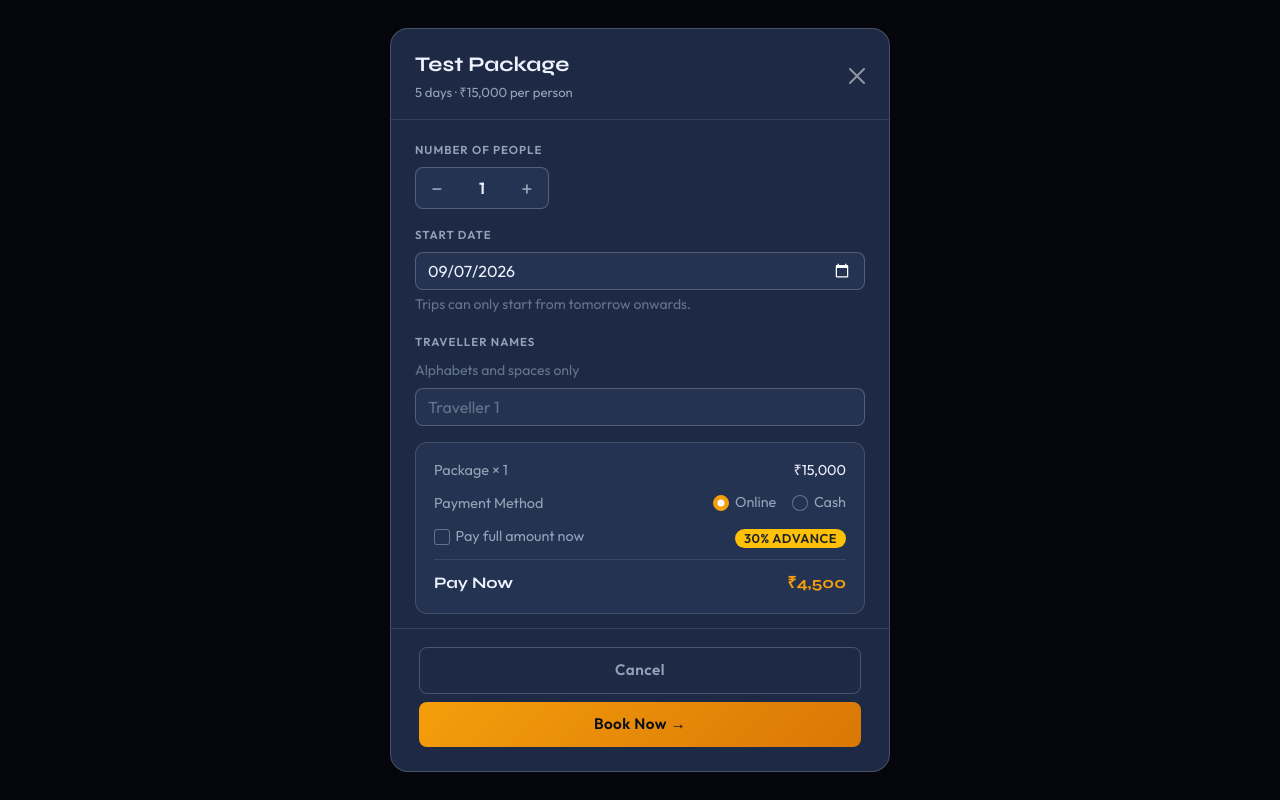
Test: BookingModal Component › shows duplicate names warning
Click the button "+" at x=527, y=188, box [506, 167, 548, 209]
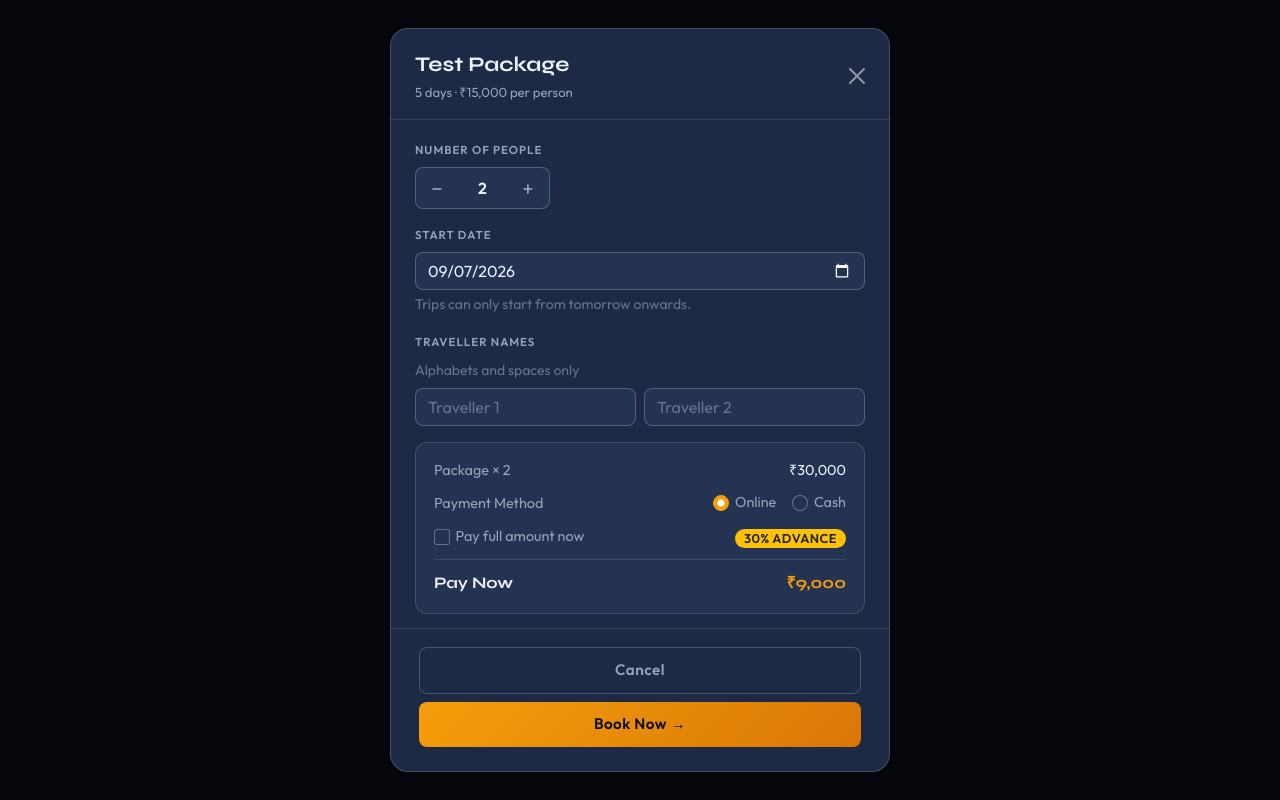
Type "Same Name" into the field with placeholder "Traveller 1" at x=526, y=407, box [415, 388, 636, 426]
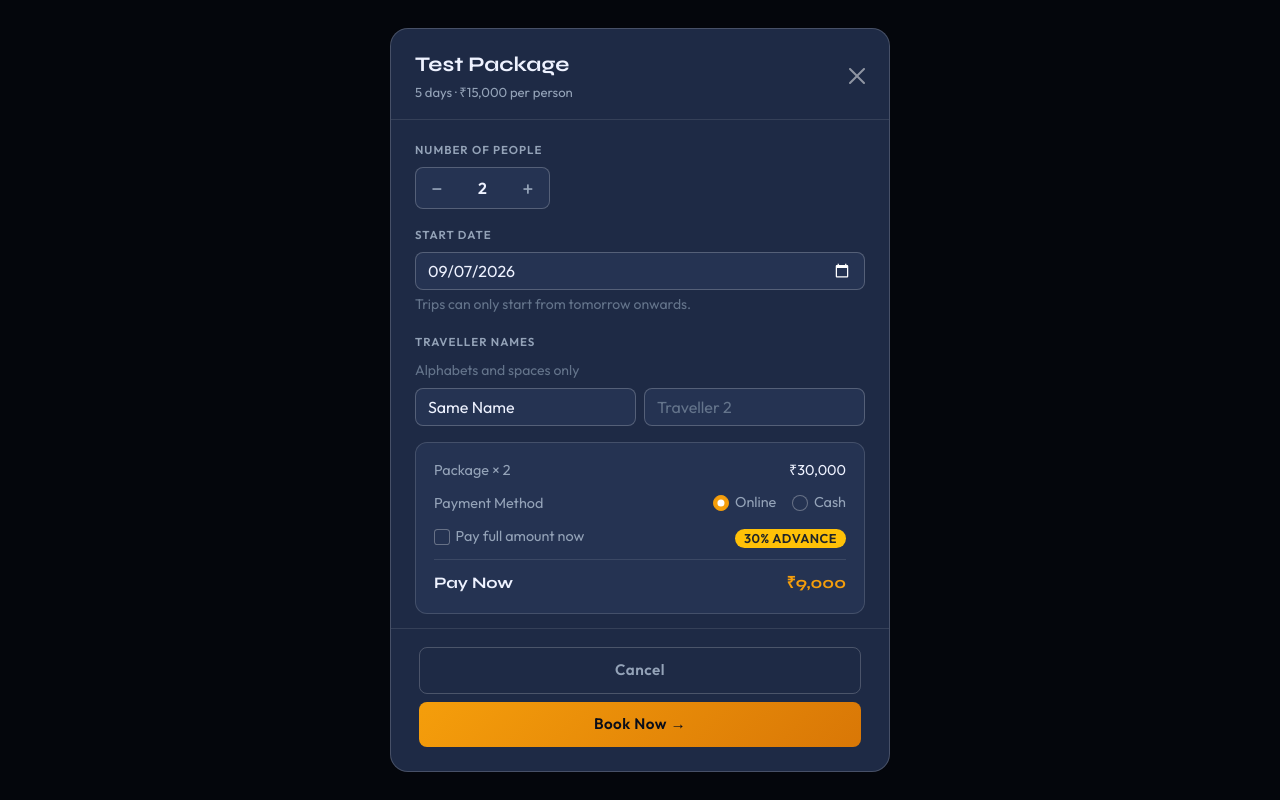
Type "Same Name" into the field with placeholder "Traveller 2" at x=754, y=407, box [644, 388, 865, 426]
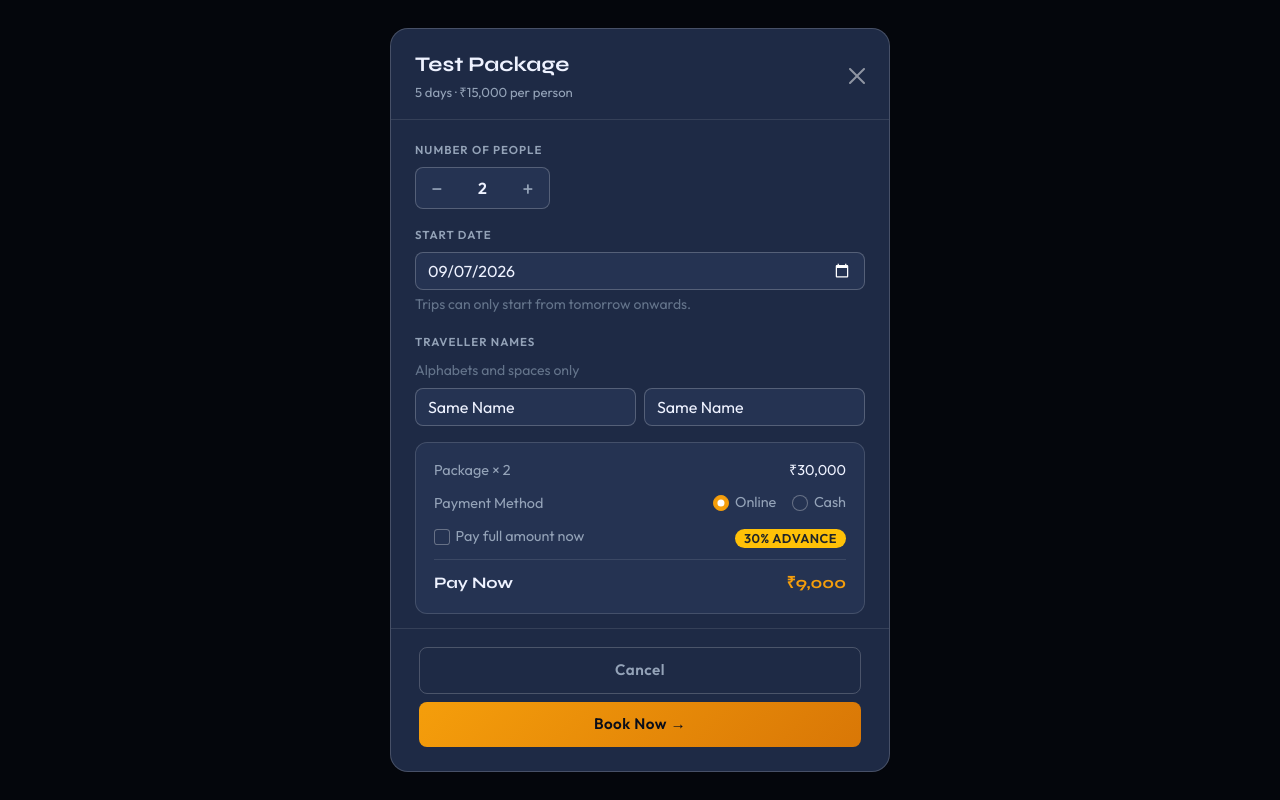
Click the button "Book Now →" at x=640, y=725, box [419, 702, 861, 747]
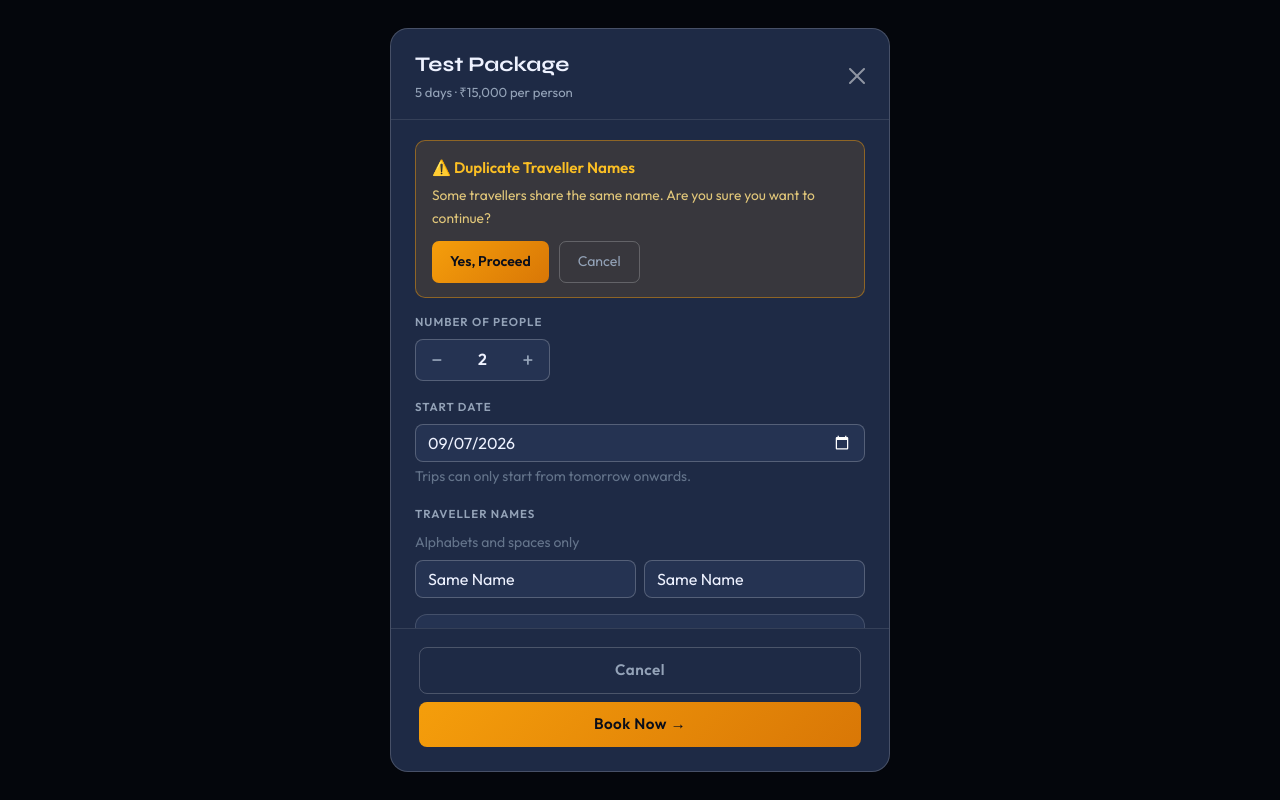
Result: the text "⚠️ Duplicate Traveller Names" is shown at [432, 158, 635, 177]
